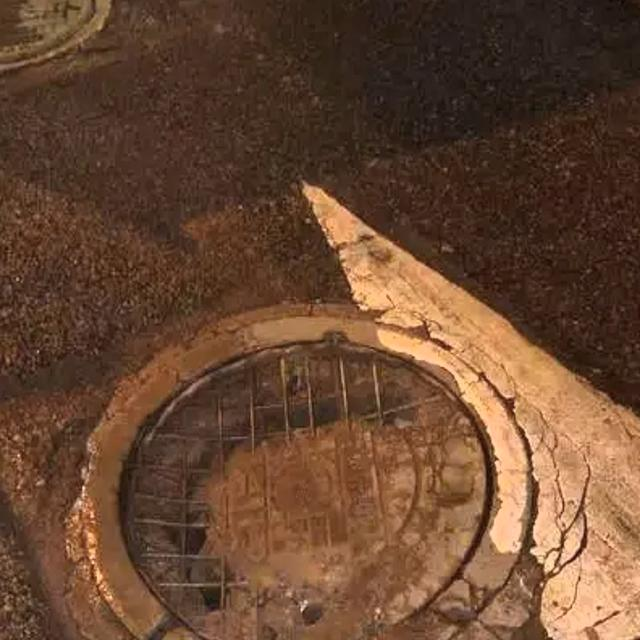circle: (0, 261, 640, 640)
